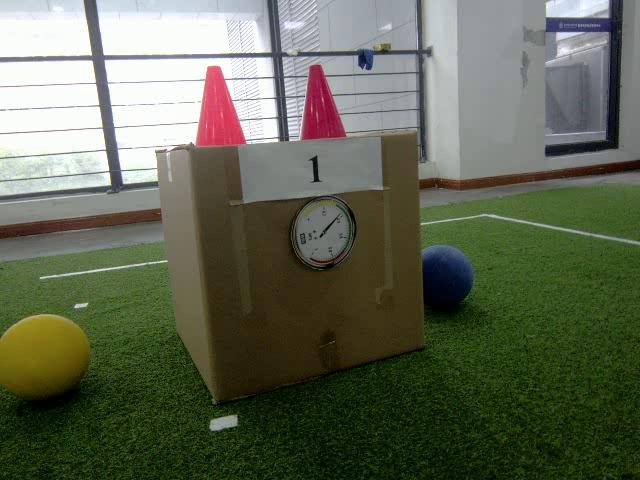1: (307, 154, 326, 184)
Dashboard: (289, 196, 359, 272)
blue_ball: (422, 244, 476, 312)
orange_barrel: (195, 65, 248, 149)
red_barrel: (298, 64, 348, 141)
ssi: (298, 231, 308, 247)
yellow_ball: (0, 312, 94, 401)
